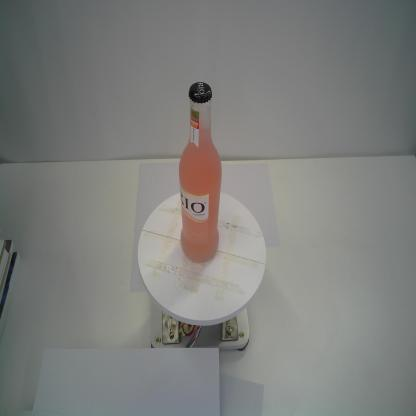Alcohol: (175, 78, 224, 267)
